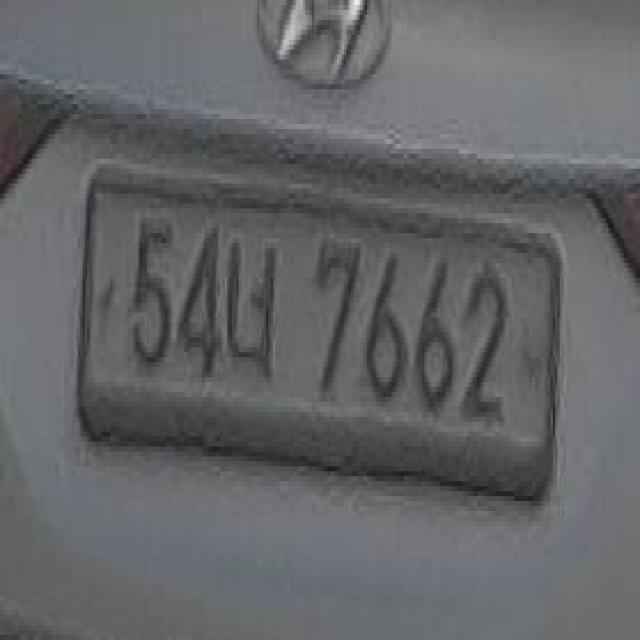2: (460, 264, 510, 436)
4: (175, 220, 224, 388)
5: (130, 208, 174, 376)
6: (362, 251, 408, 418), (410, 258, 455, 419)
7: (310, 230, 360, 414)
license_plate: (68, 156, 579, 539)
neo: (227, 232, 280, 398)
